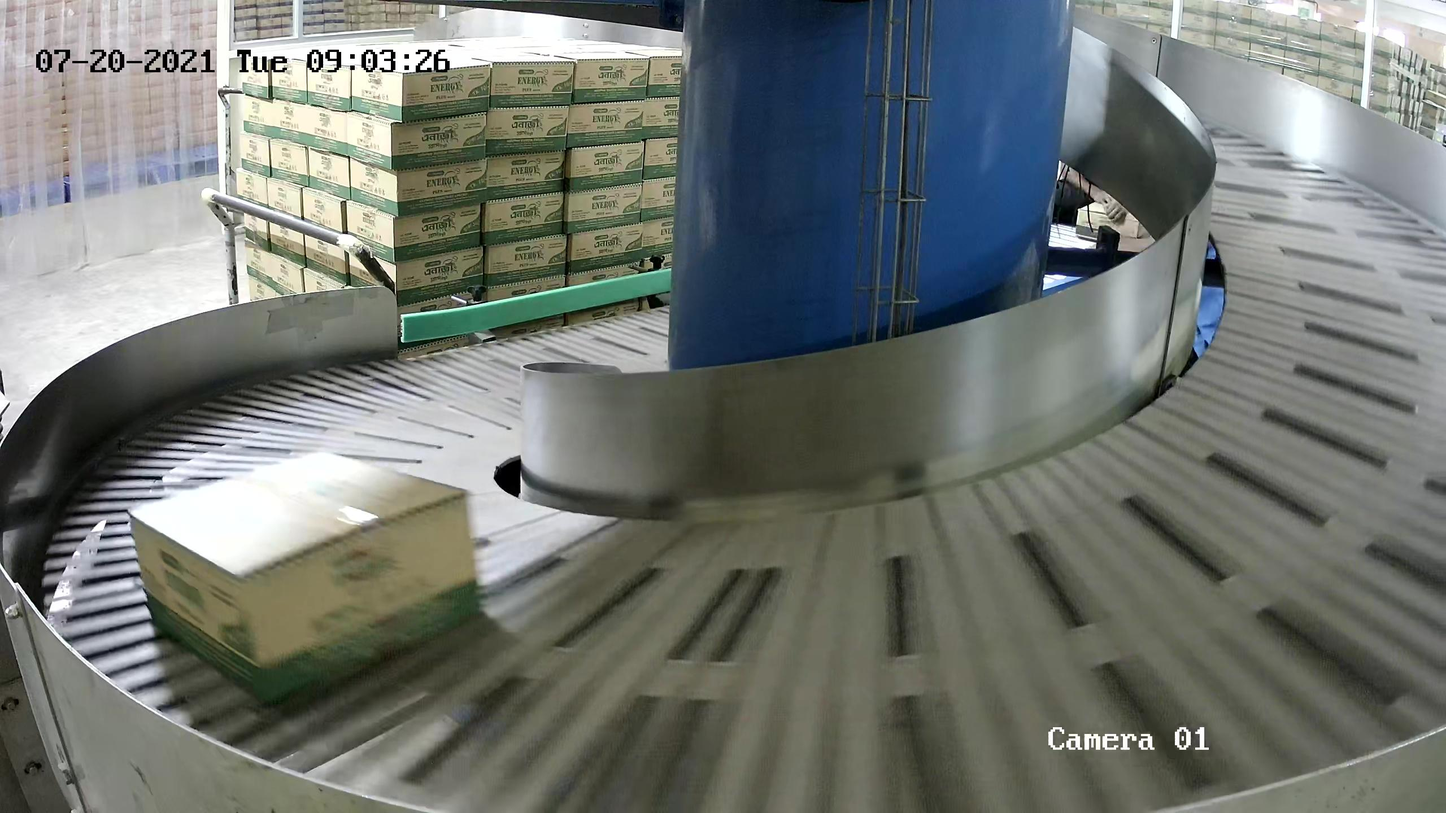Box: (129, 449, 484, 709)
